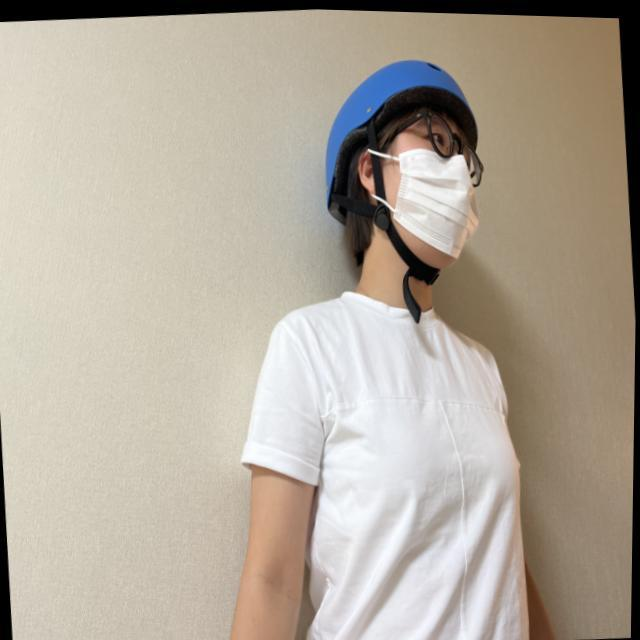Helmet: (320, 56, 488, 282)
